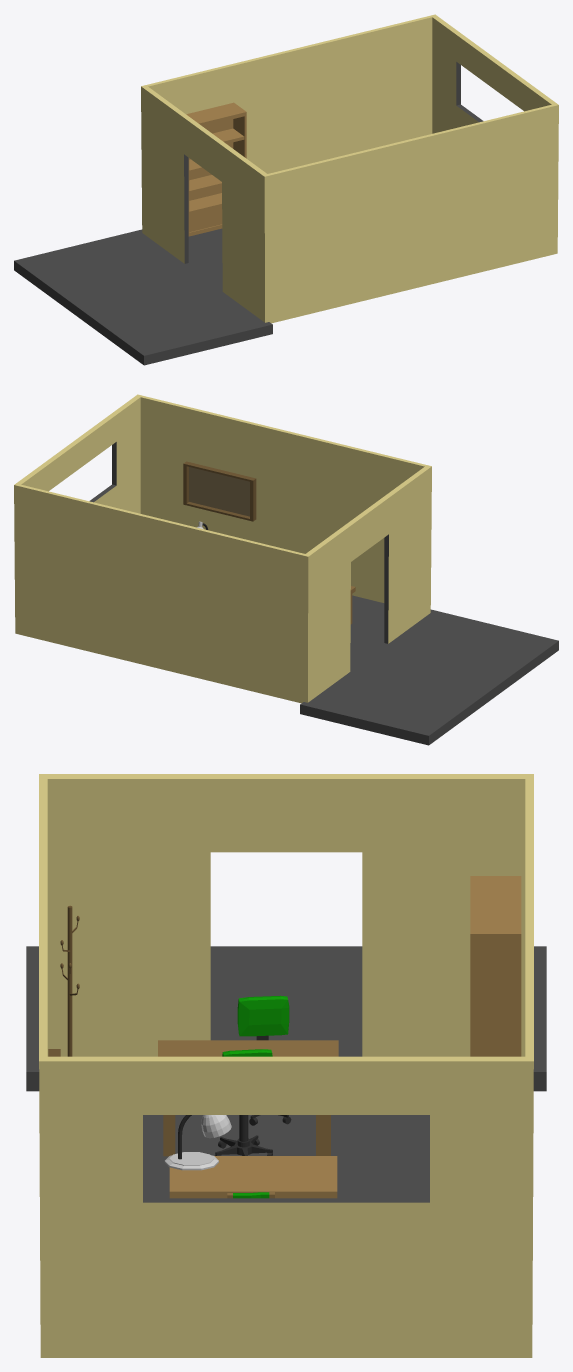
Rendered from office.dae.
The picture shows the model from 3 angles, top to bottom: view 1: azimuth 30°, elevation 25°; view 2: azimuth 150°, elevation 25°; view 3: azimuth 270°, elevation 25°; orthographic projection. The views are drawn at different scales.
Visible parts, largest first — view 1: Room1, Corridor, Shelving_001; view 2: Room1, Corridor, CorkPanel_001; view 3: Room1, Corridor, Shelving_001, Desk3_001, Desk1_001, Chair1_002, ReadingLamp_001, Chair1_001, ClothHanger_001.
Boxes of the visible parts, bbox=[...] form: Room1: bbox=[141, 14, 558, 323]; Corridor: bbox=[14, 229, 272, 365]; Shelving_001: bbox=[186, 102, 246, 236]; Room1: bbox=[14, 394, 431, 703]; Corridor: bbox=[300, 609, 558, 745]; CorkPanel_001: bbox=[183, 461, 256, 521]; Room1: bbox=[39, 774, 533, 1357]; Corridor: bbox=[26, 946, 546, 1091]; Shelving_001: bbox=[470, 876, 521, 1056]; Desk3_001: bbox=[169, 1156, 337, 1198]; Desk1_001: bbox=[158, 1040, 338, 1156]; Chair1_002: bbox=[237, 995, 291, 1125]; ReadingLamp_001: bbox=[164, 1115, 231, 1170]; Chair1_001: bbox=[215, 1049, 272, 1155]; ClothHanger_001: bbox=[60, 905, 79, 1056].
Size of the model in its own units: 22.73 by 12.25 by 8.11.
